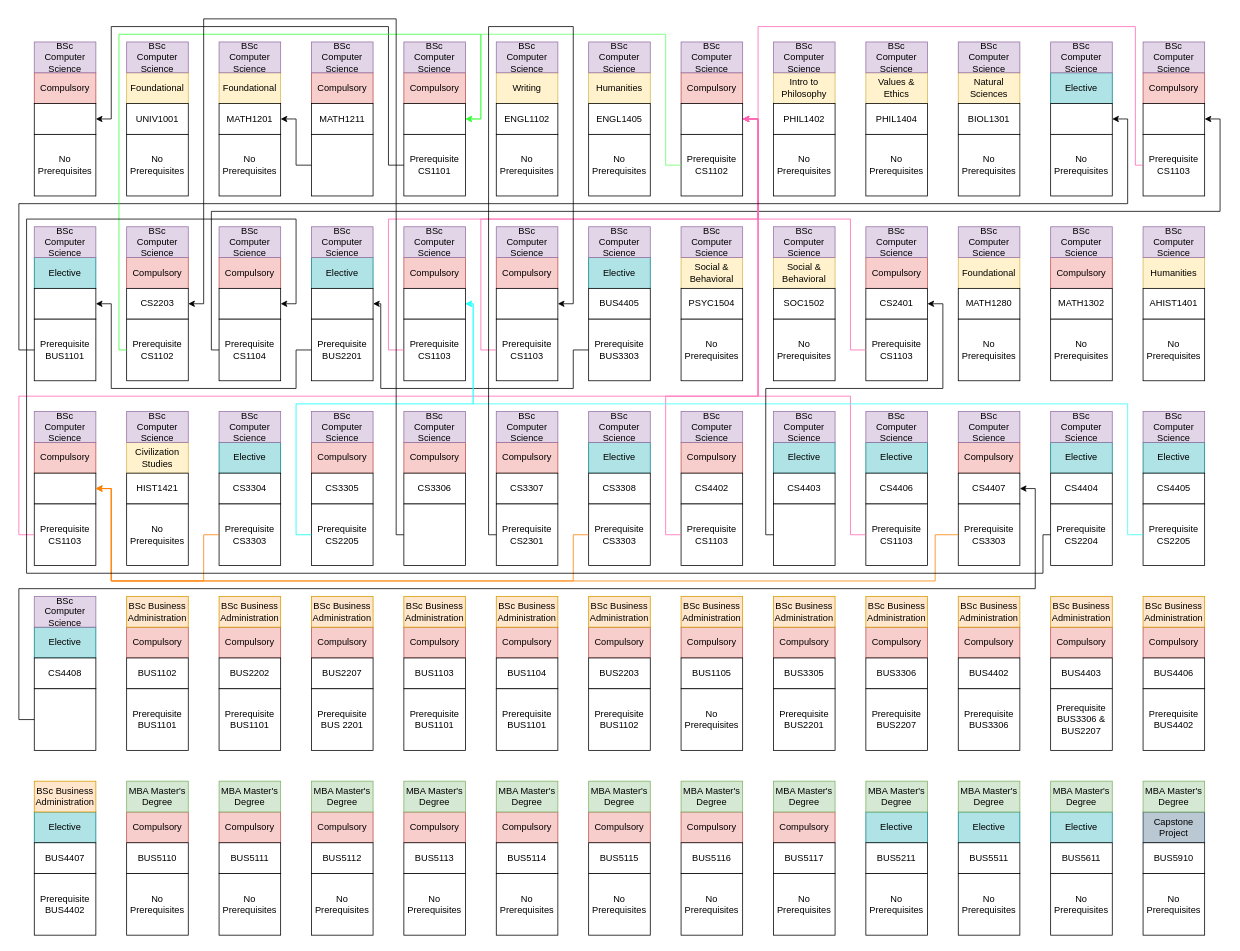
This 1240x951 diagram has some shape labels left out. The centre of each missing label's shape, as x and y in pixels:
"BUS1101" belongs at (1081,118).
"BUS2201" belongs at (64,303).
"BUS3303" belongs at (342,303).
"CS1101" belongs at (64,118).
"CS1102" belongs at (434,118).
"CS1103" belongs at (711,118).
"CS1104" belongs at (1173,118).
"CS2204" belongs at (249,303).
"CS2205" belongs at (434,303).
"CS2301" belongs at (526,303).
"CS3303" belongs at (64,488).
"Prerequisite CS2203" belongs at (434,534).
"Prerequisite CS2401" belongs at (804,534).
"Prerequisite CS4407" belongs at (64,719).
"Prerequisite MATH1201" belongs at (342,165).
